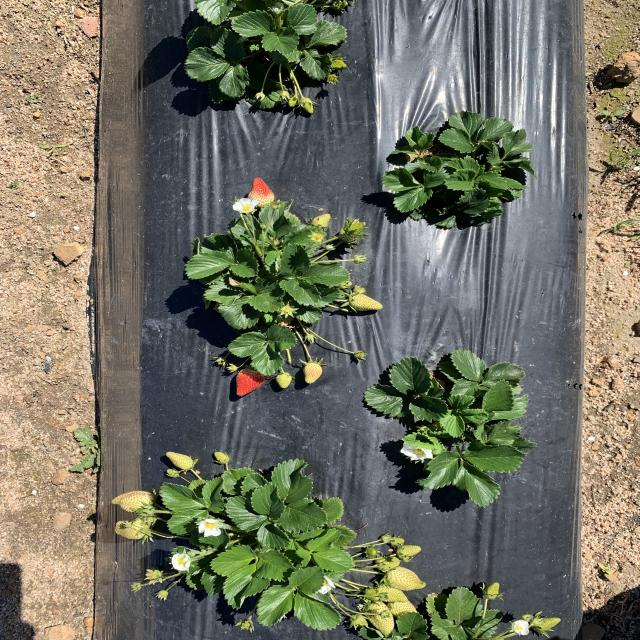unripe: (230, 364, 272, 398)
